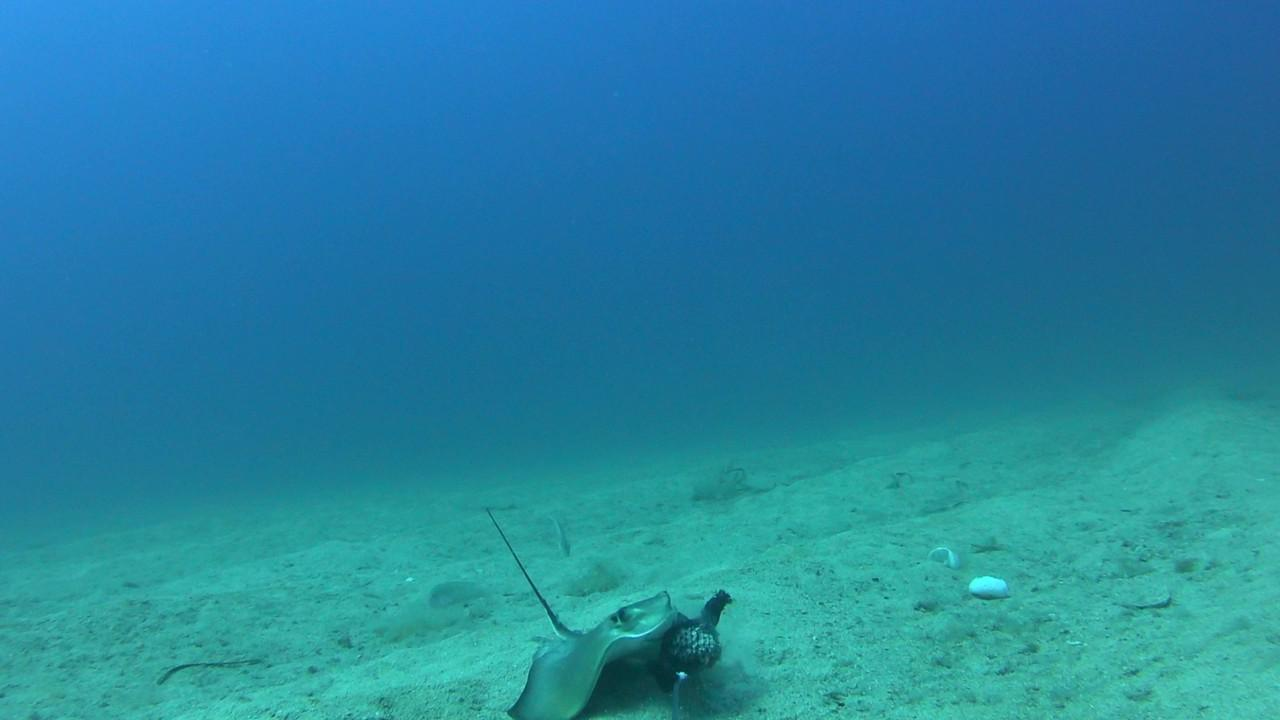myliobatis: (439, 485, 764, 719)
raor: (428, 579, 503, 608)
